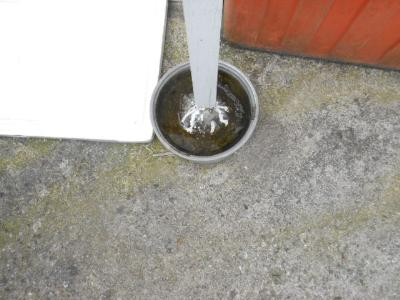bucket: (149, 59, 259, 163)
